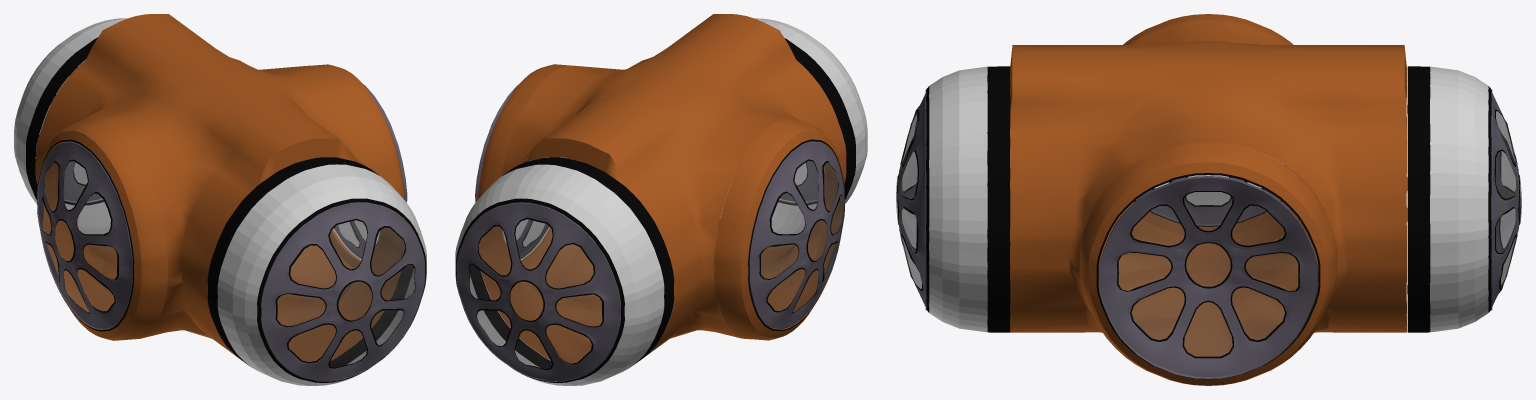
The model's file is WorldViewExterior.FBX.
3 renders of one model, left to right at view 1: azimuth 30°, elevation 25°; view 2: azimuth 150°, elevation 25°; view 3: azimuth 270°, elevation 25°, orthographic. The views are drawn at different scales.
Parts seen in each view (by area): view 1: capsuel1, window_low1_06, window_outerFrame_1, window_low1_01, window_outerFrame_4, window_low1_05, window_low1_07; view 2: capsuel1, window_low1_07, window_outerFrame_4, window_low1_01, window_outerFrame_1, window_low1_05, window_low1_06; view 3: capsuel1, window_low1_05, window_outerFrame_4, window_outerFrame_1, window_low1_07, window_low1_06, window_low1_01.
Boxes of the visible parts, x1,y1,x2,y2 form: capsuel1: (36, 14, 405, 361); window_low1_06: (261, 202, 425, 381); window_outerFrame_1: (207, 157, 426, 385); window_low1_01: (37, 141, 132, 329); window_outerFrame_4: (14, 18, 127, 246); window_low1_05: (334, 84, 407, 259); window_low1_07: (35, 59, 103, 203); capsuel1: (478, 14, 846, 363); window_low1_07: (456, 202, 620, 381); window_outerFrame_4: (455, 157, 674, 385); window_low1_01: (749, 141, 844, 328); window_outerFrame_1: (719, 18, 867, 246); window_low1_05: (475, 84, 570, 259); window_low1_06: (779, 161, 818, 203); capsuel1: (1010, 14, 1406, 385); window_low1_05: (1099, 176, 1317, 378); window_outerFrame_4: (1407, 66, 1491, 332); window_outerFrame_1: (926, 66, 1010, 332); window_low1_07: (1491, 89, 1521, 310); window_low1_06: (896, 90, 926, 310); window_low1_01: (1135, 165, 1299, 225).
Size of the model in its own units: 13.55 by 9.98 by 21.41.
